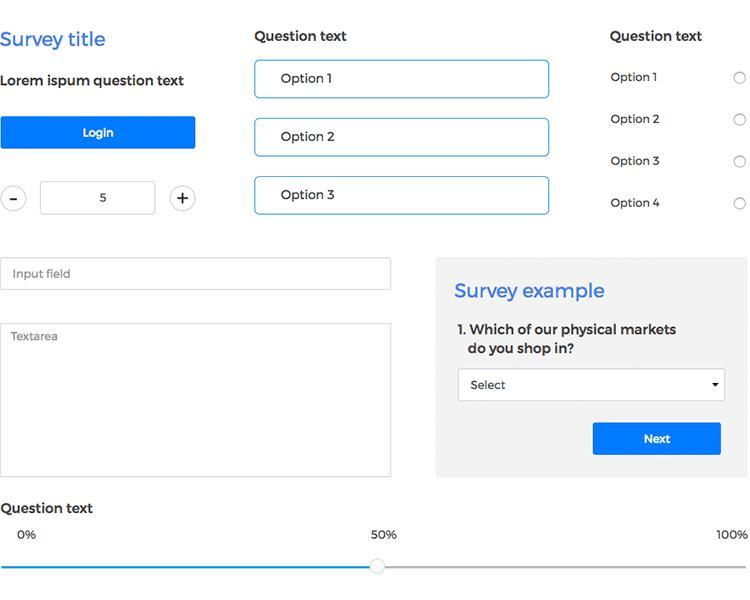button: (1, 115, 200, 151), (592, 420, 728, 462)
dropdown: (459, 370, 726, 402)
icon: (1, 183, 30, 216), (172, 184, 198, 219)
input: (2, 258, 393, 292), (254, 177, 551, 218), (256, 60, 551, 99), (256, 119, 550, 157), (42, 183, 156, 218)
label: (457, 317, 686, 359), (446, 272, 622, 311), (1, 25, 112, 53), (603, 26, 713, 49), (256, 22, 358, 45), (608, 65, 676, 94), (606, 109, 672, 138), (604, 147, 670, 174), (604, 192, 670, 214)
radio: (731, 66, 750, 85), (730, 153, 749, 171), (730, 113, 750, 129), (730, 194, 748, 211)
slider: (1, 522, 750, 581)
